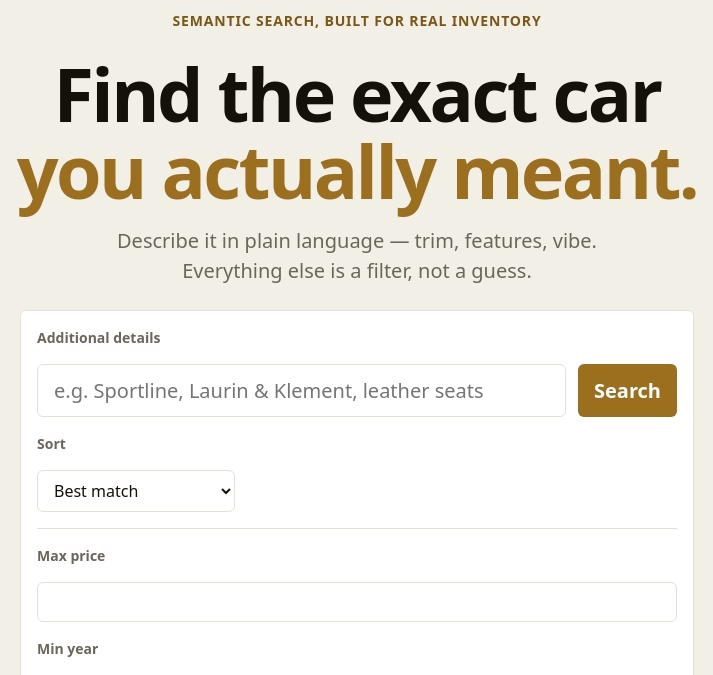
Test: search page › shows a dismissible chip for a set filter and clears that filter when the chip is dismissed
Type "25000" into the number field labelled "Max price". click: (357, 602)
box: 37,582 -> 677,622
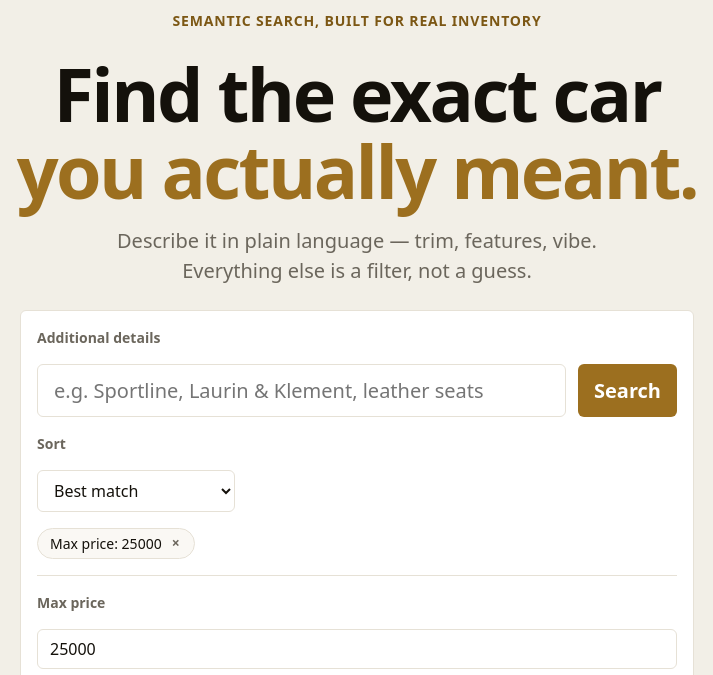
Expected: the text "Max price: 25000" is shown, 50,532 -> 162,554
Click the button "×". click: (176, 543)
box: 166,533 -> 186,553
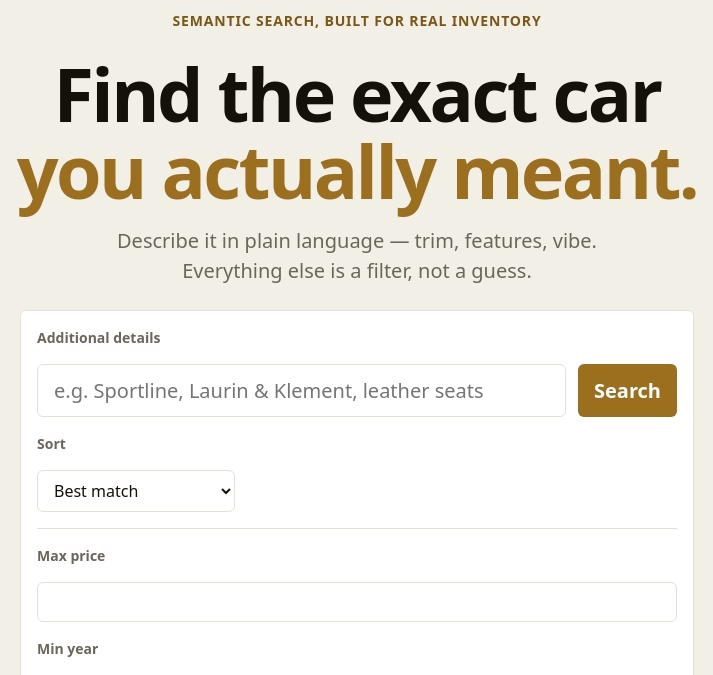
Expected: the number field labelled "Max price" is empty, 37,582 -> 677,622
Expected: the text "Max price: 25000" is gone
